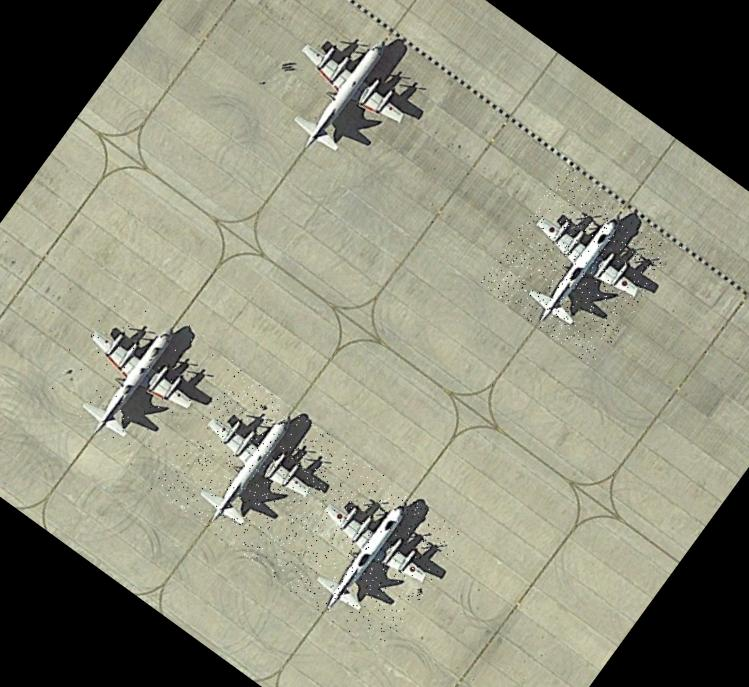A9: (478, 163, 680, 367), (34, 274, 236, 478), (150, 366, 352, 570), (264, 451, 466, 655), (244, 0, 445, 193)
